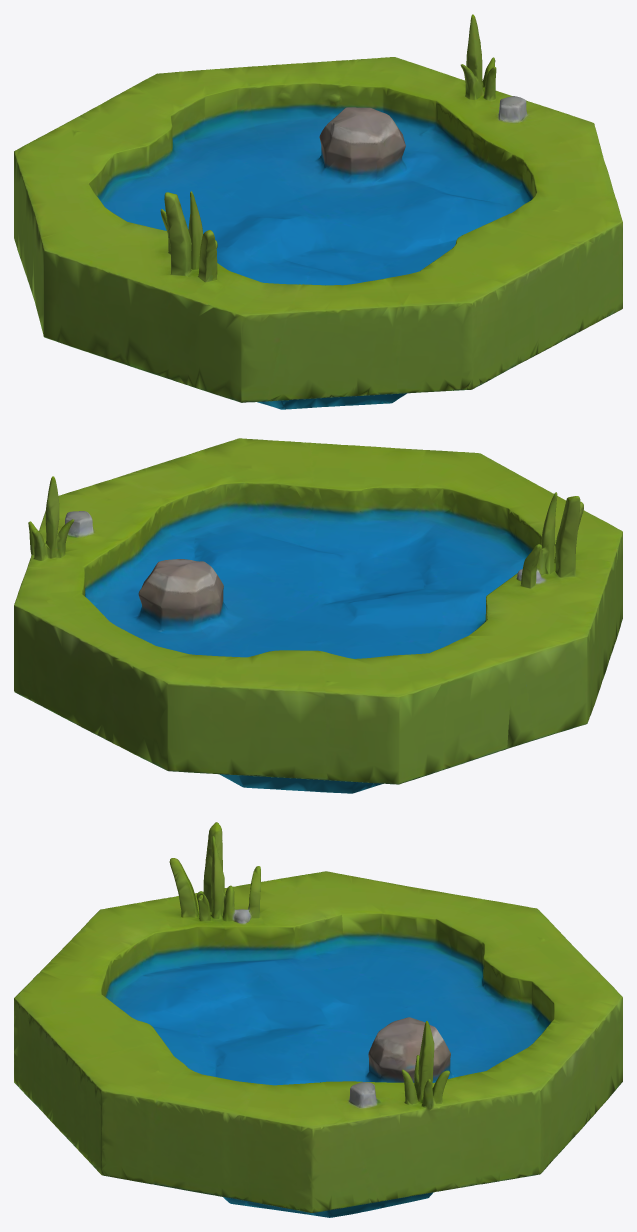
Rendered from lake.glb.
The picture shows the model from 3 angles, top to bottom: view 1: azimuth 30°, elevation 25°; view 2: azimuth 150°, elevation 25°; view 3: azimuth 270°, elevation 25°; orthographic projection. The views are drawn at different scales.
Parts seen in each view (by area): view 1: tripo_node_f61b93ac-a047-4179-8f25-57d828c9affd; view 2: tripo_node_f61b93ac-a047-4179-8f25-57d828c9affd; view 3: tripo_node_f61b93ac-a047-4179-8f25-57d828c9affd.
Boxes of the visible parts, left/top/right/bottom form: tripo_node_f61b93ac-a047-4179-8f25-57d828c9affd: left=14, top=14, right=622, bottom=409; tripo_node_f61b93ac-a047-4179-8f25-57d828c9affd: left=14, top=438, right=622, bottom=793; tripo_node_f61b93ac-a047-4179-8f25-57d828c9affd: left=14, top=822, right=622, bottom=1217.
Size of the model in its own units: 1 by 0.4356 by 0.9999.
1 material, 1 textured.
